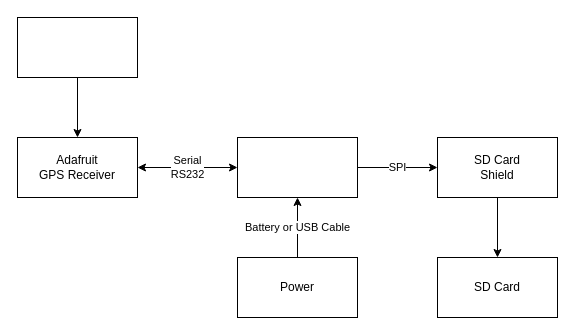
The diagram is 575 pixels wide and 335 high, and some of its shapes have lost their labels. The shapes that lost their labels are listed below. From the top down, each one's centre as x and y in pixels, then its label:
At point 77,47: "External GPS Antenna".
At point 297,167: "Arduino ATMega 328".
